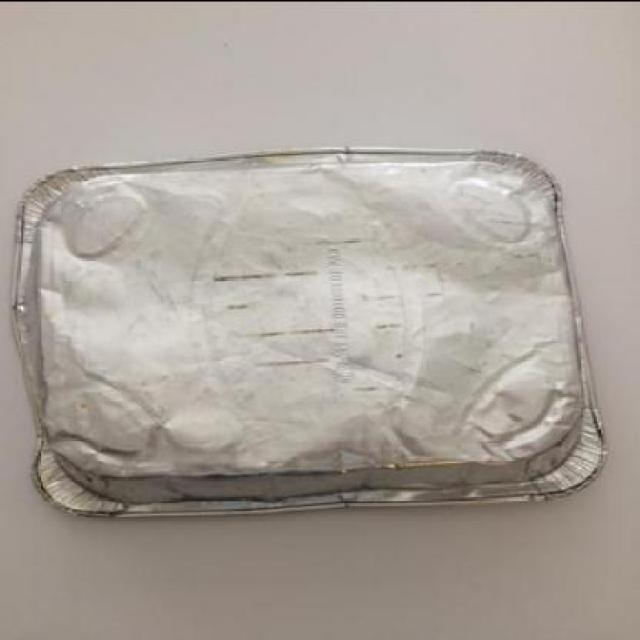METAL: (10, 141, 613, 519)
